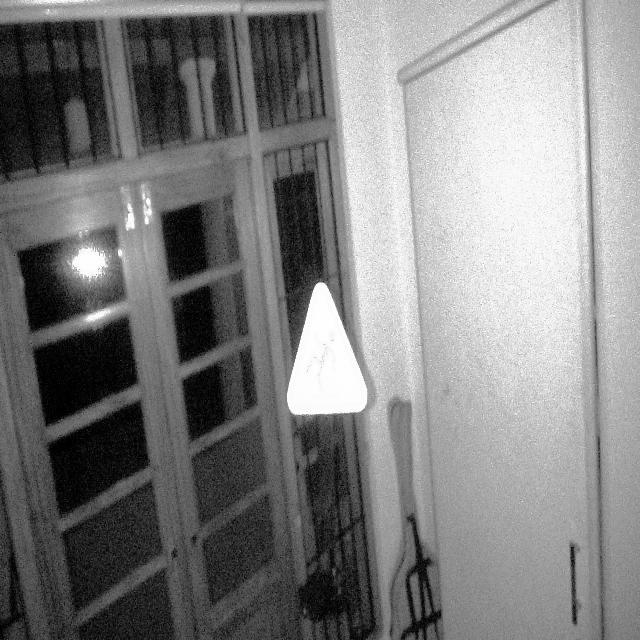Sign: (286, 281, 369, 417)
